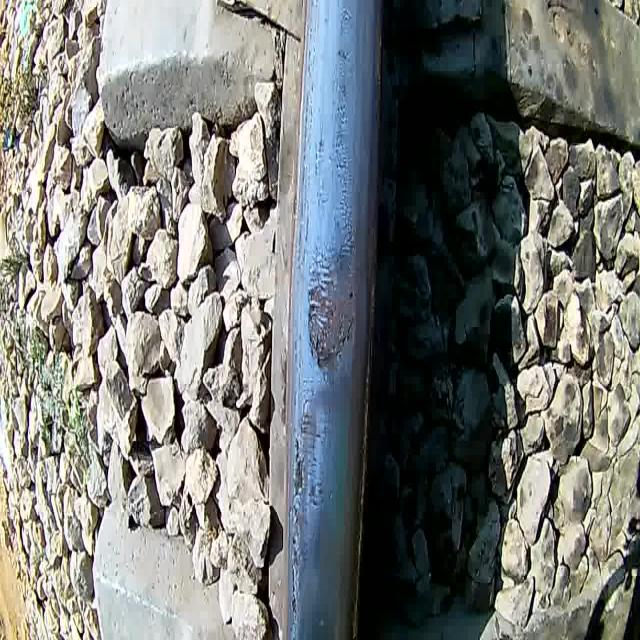Squats: (286, 387, 327, 634), (301, 232, 364, 380)
